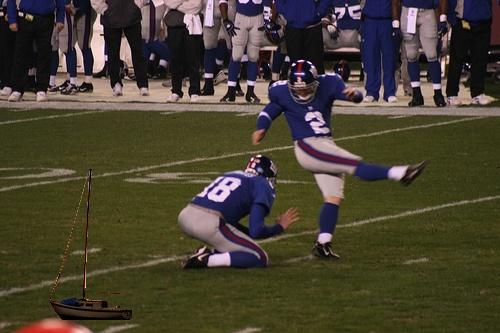tampered: (50, 170, 132, 320)
